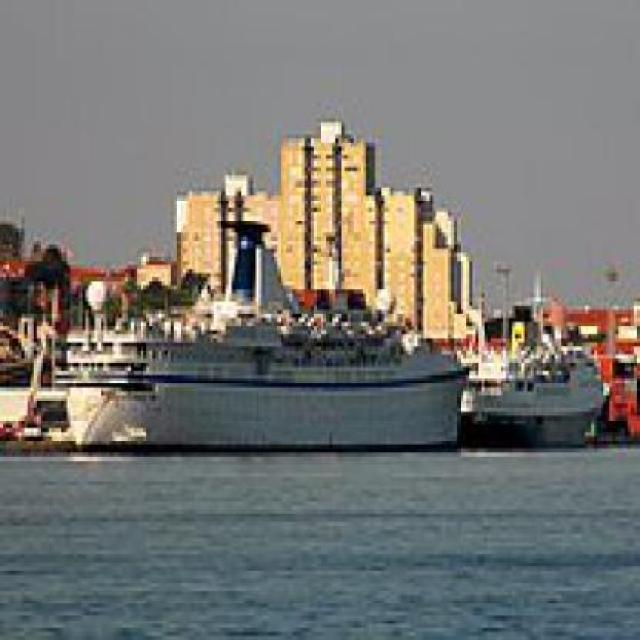cruise: (38, 217, 492, 470)
